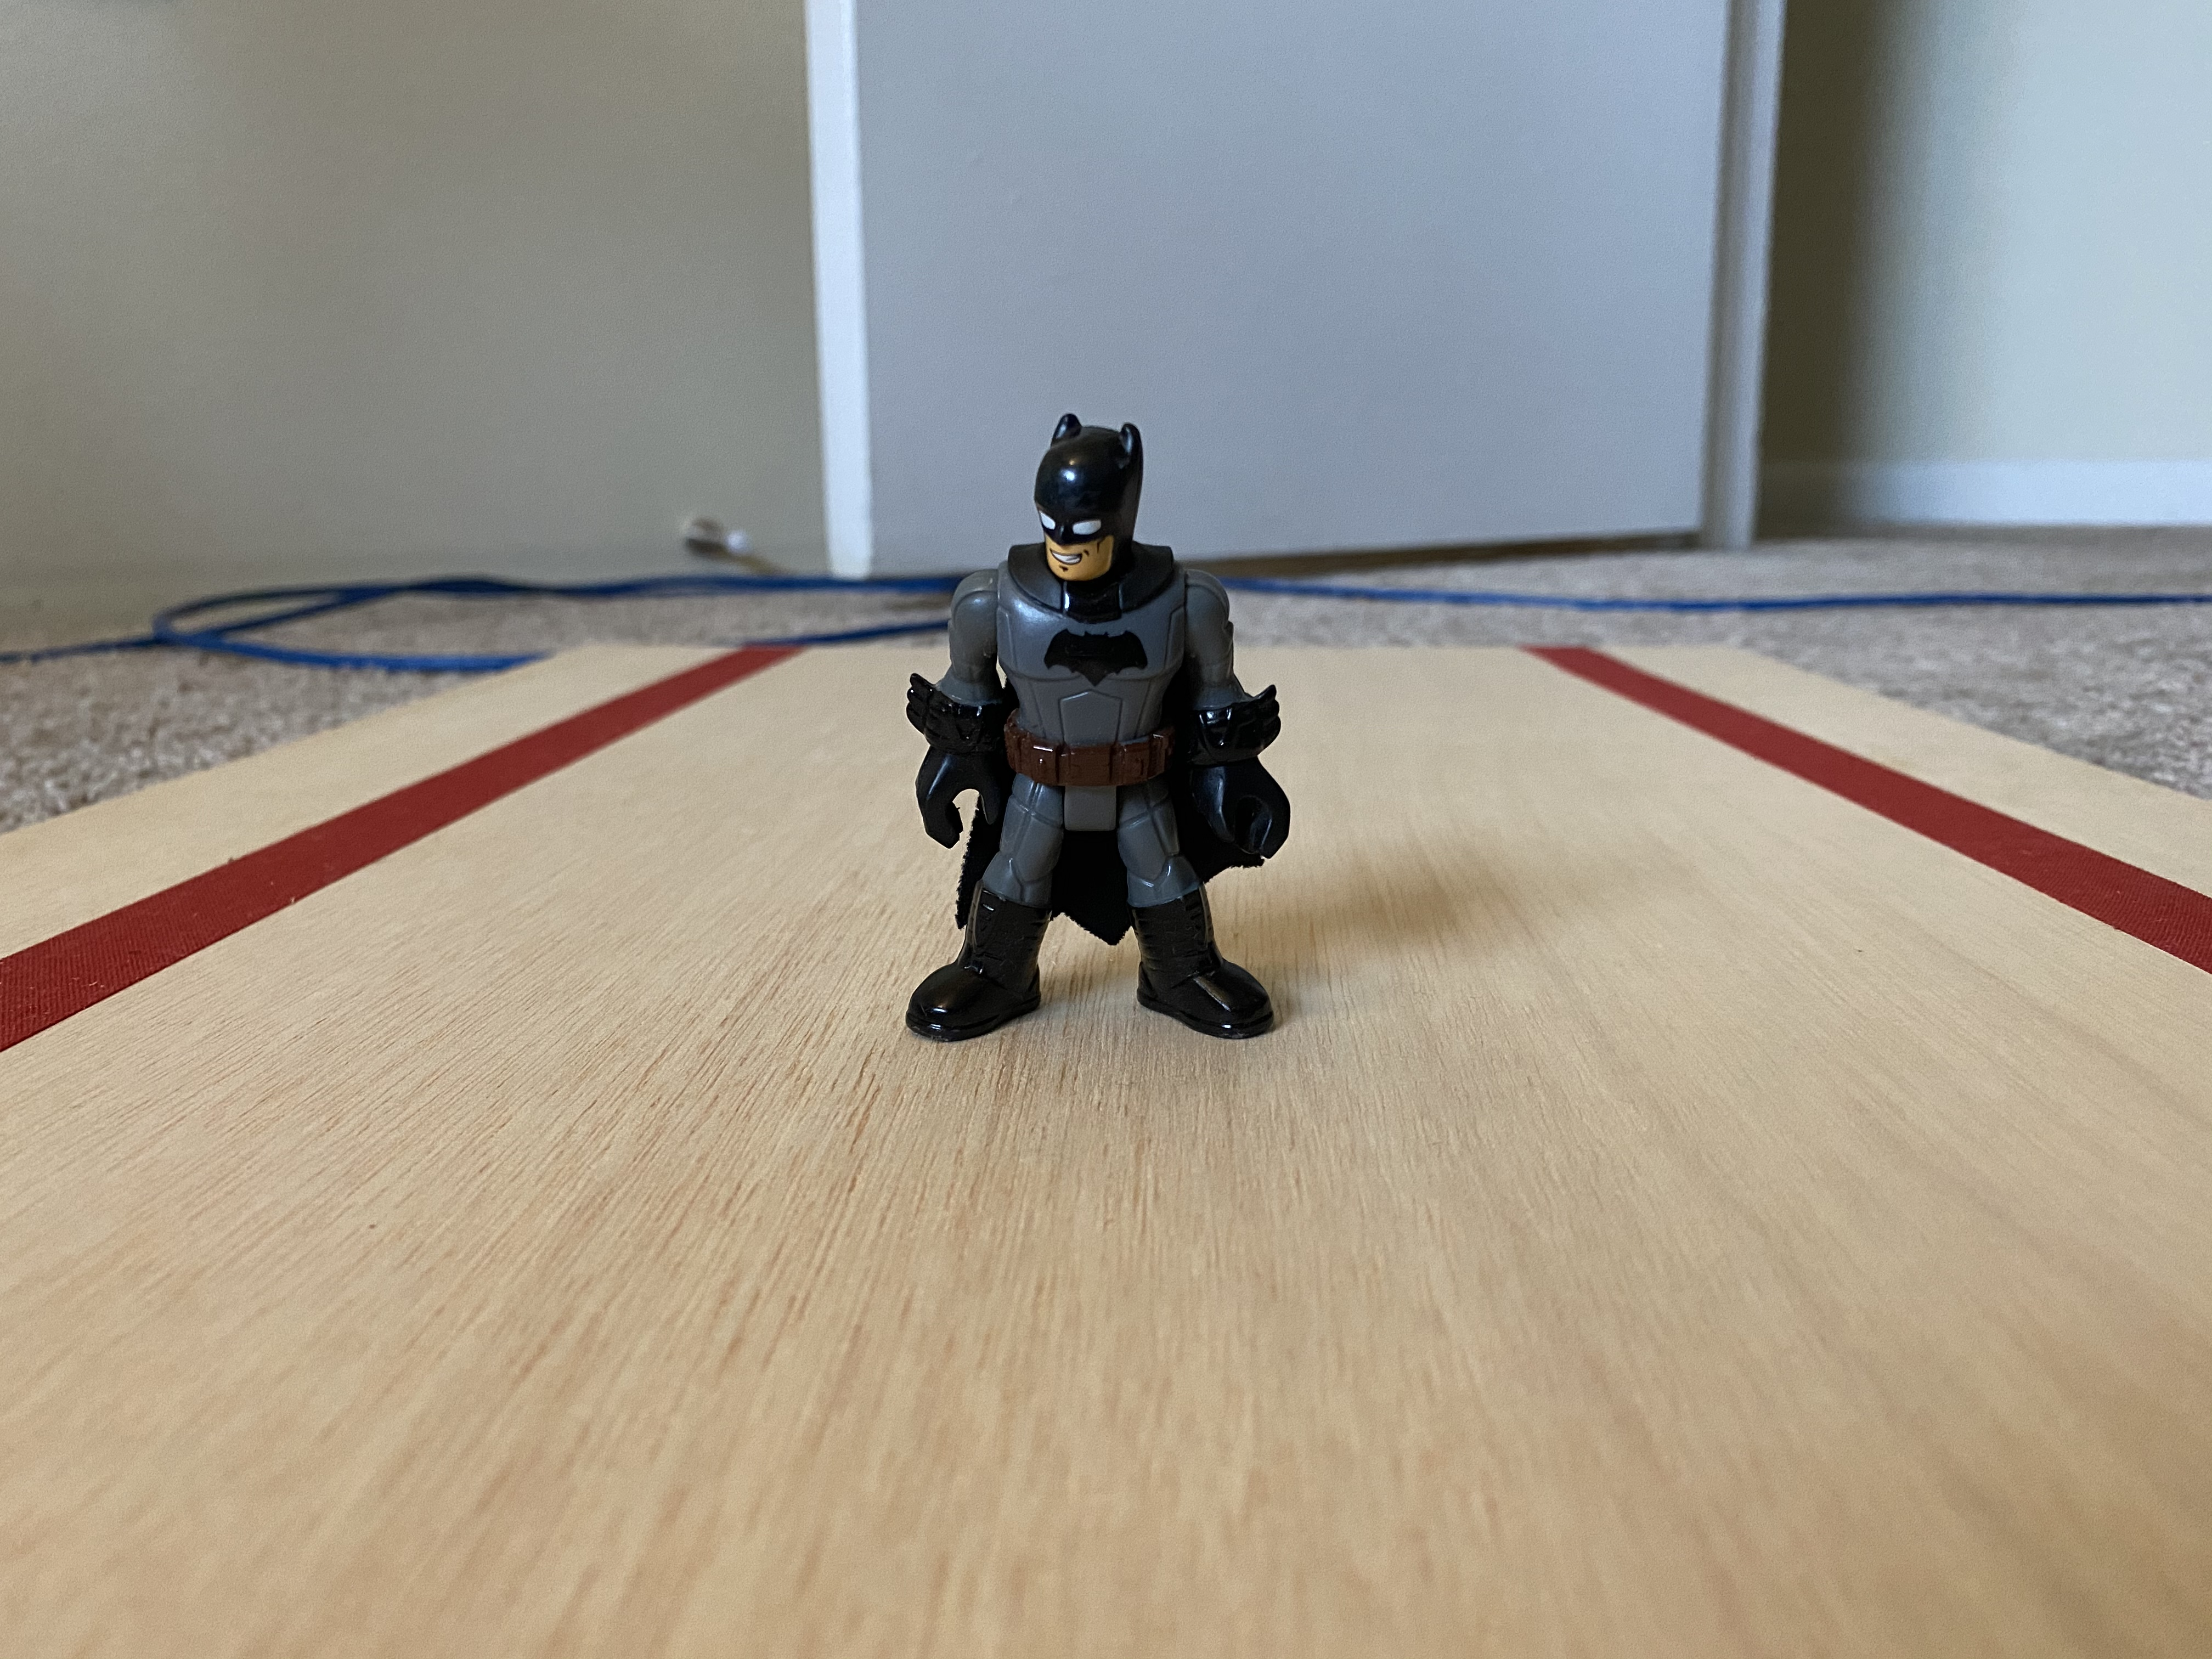Person: (896, 395, 1312, 1067)
